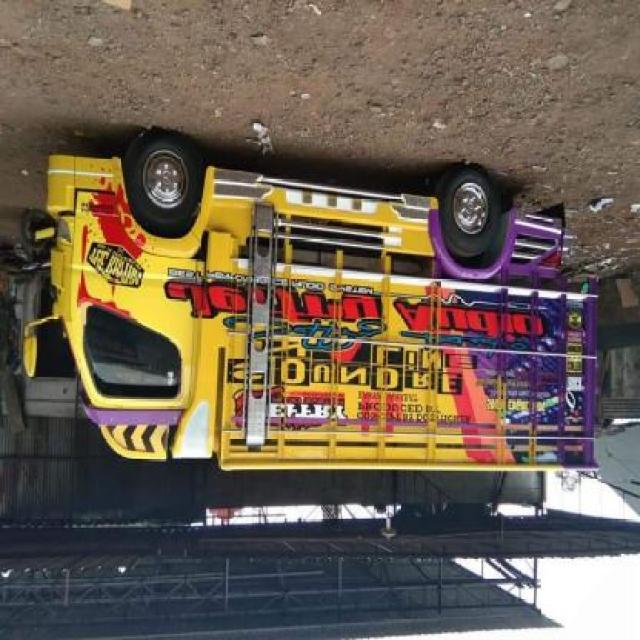truck: (26, 131, 604, 473)
